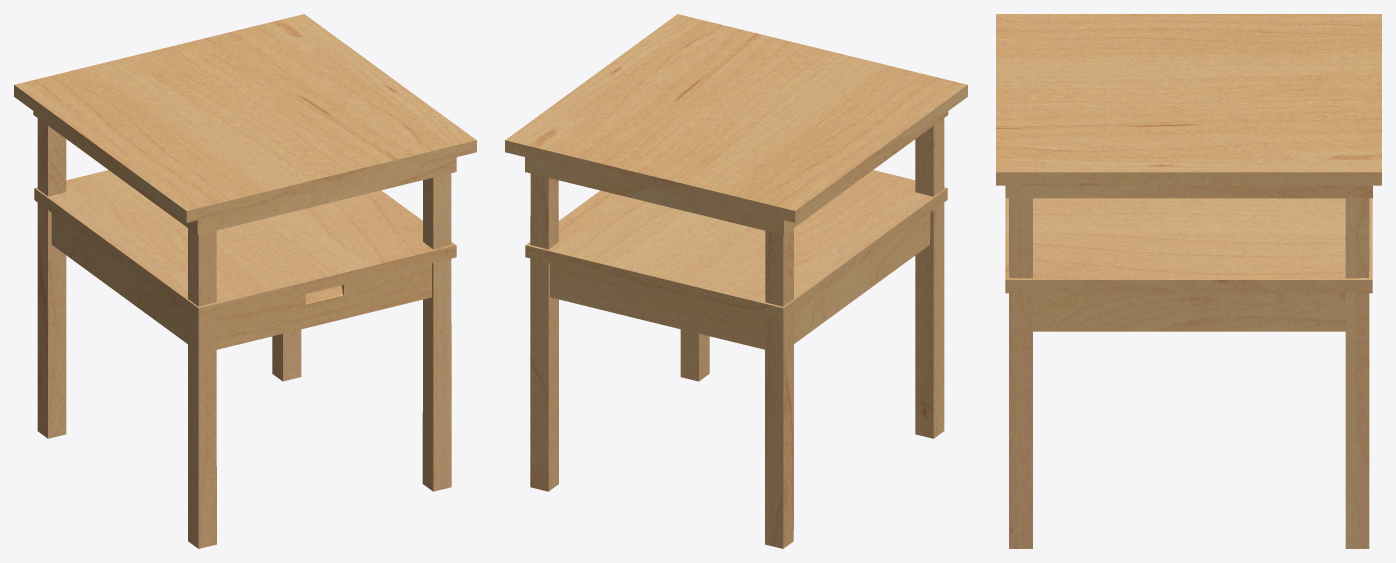
The model's file is chuangtougui01.fbx.
3 views of the same model, side by side, from view 1: azimuth 30°, elevation 25°; view 2: azimuth 150°, elevation 25°; view 3: azimuth 270°, elevation 25° (orthographic). The views are drawn at different scales.
Visible parts, largest first — view 1: chuangtougui01; view 2: chuangtougui01; view 3: chuangtougui01.
Part boxes in pixels (bbox=[...]): chuangtougui01: bbox=[14, 14, 476, 548]; chuangtougui01: bbox=[505, 14, 967, 548]; chuangtougui01: bbox=[996, 14, 1381, 548].
Size of the model in its own units: 42.59 by 48.57 by 43.86.
